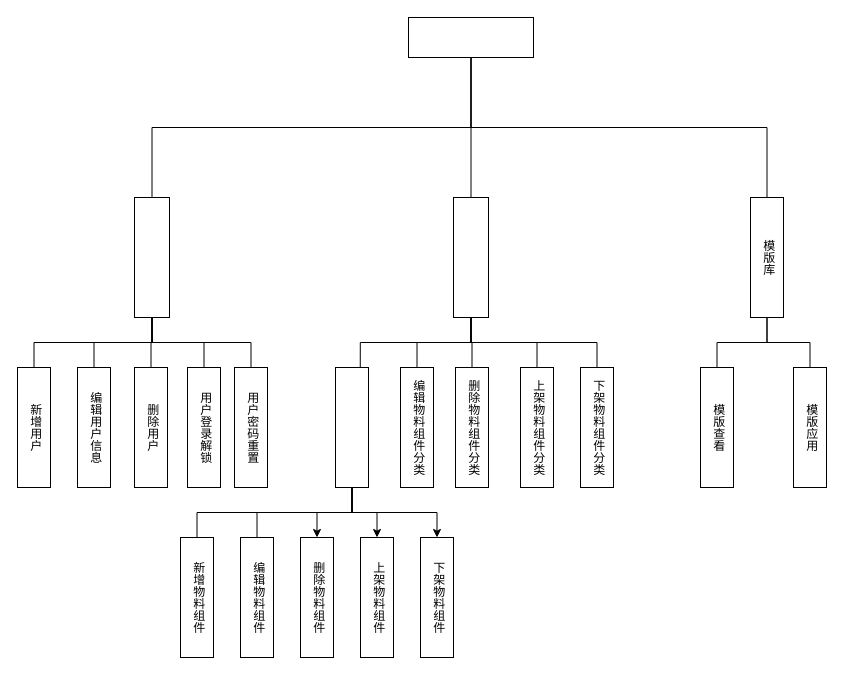
Image size: 844x675. Some labels were removed from this diagram. The centre of each missing label's shape, as x and y in pixels:
新增物料组件分类: the point at 351,427
物料组件管理: the point at 470,257
用户模块: the point at 471,37
用户管理: the point at 152,257
